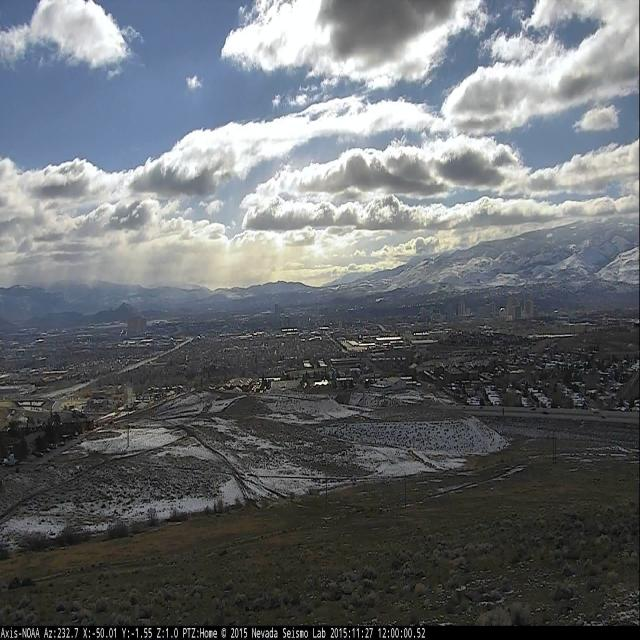smoke: (118, 328, 127, 336)
